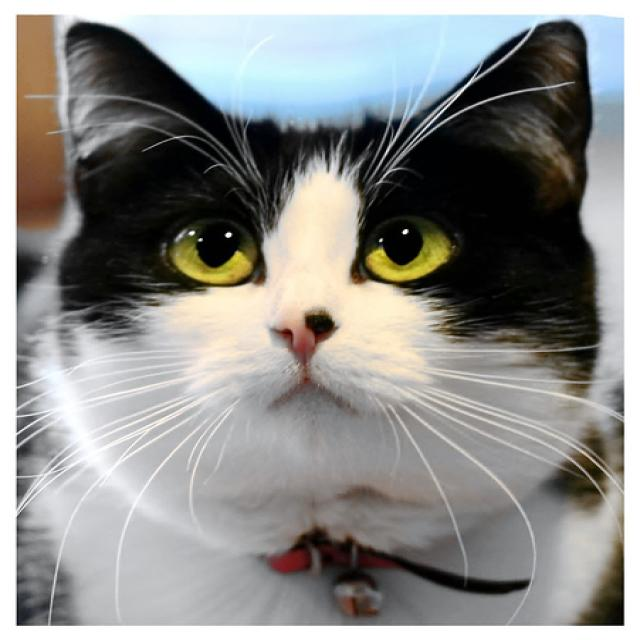cat: (17, 16, 623, 626)
